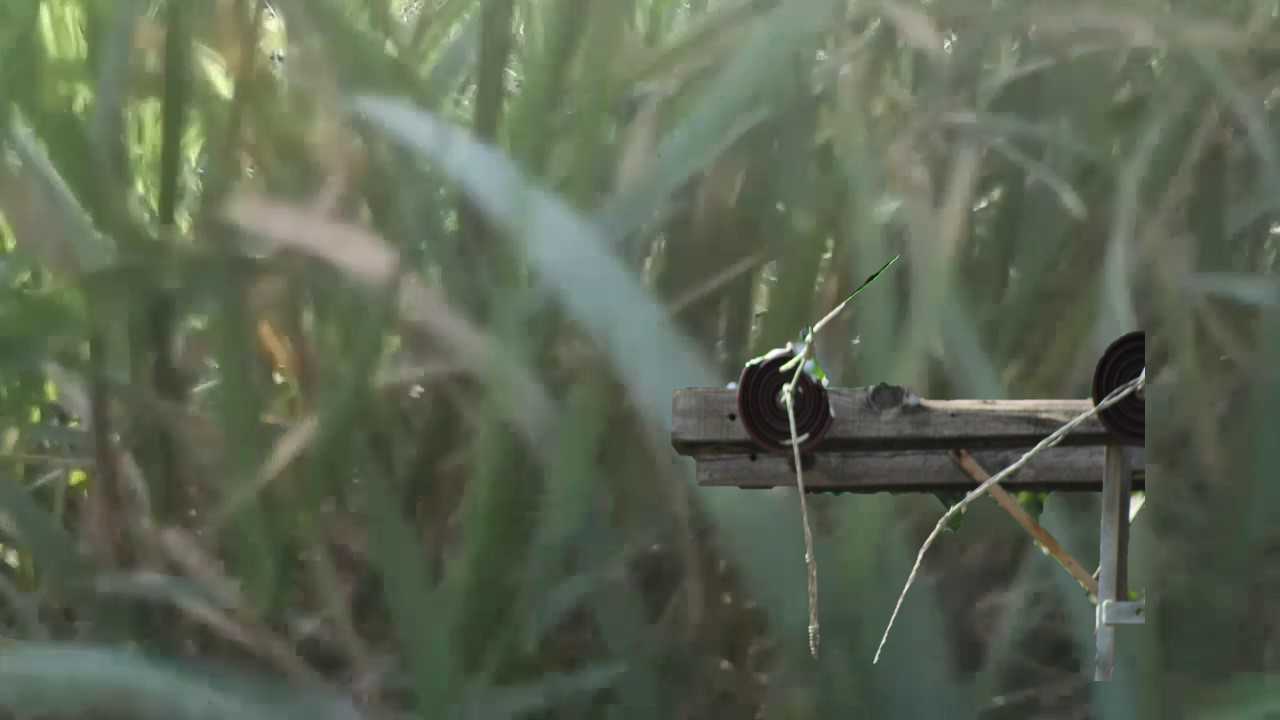defect_disc: (734, 339, 842, 460)
